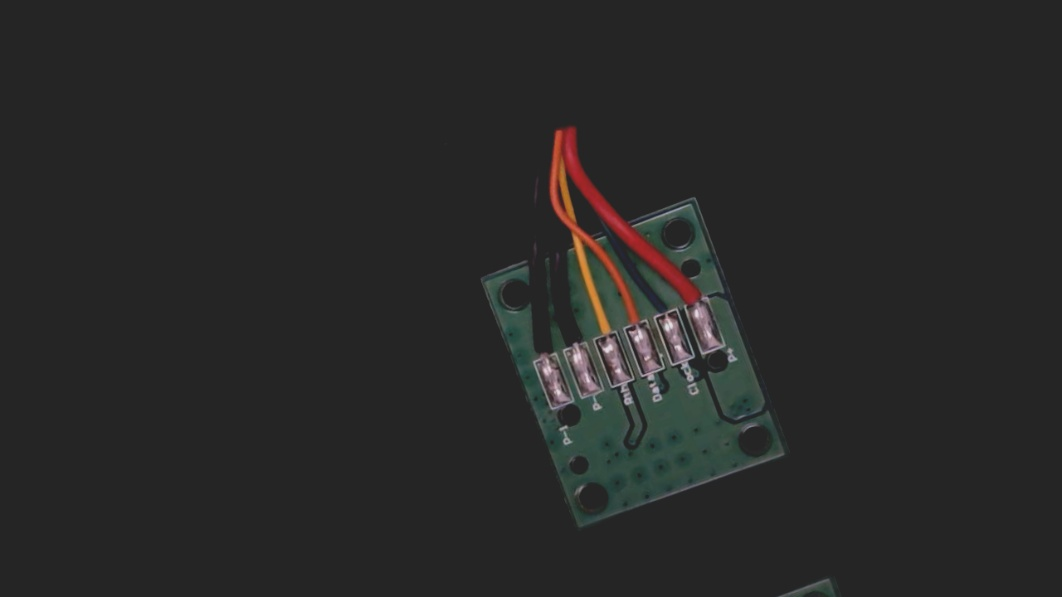Black: (548, 303, 594, 361)
Black1: (516, 312, 561, 374)
Green: (639, 274, 682, 332)
Orange: (607, 276, 652, 342)
Red: (669, 255, 715, 319)
Yellow: (579, 294, 622, 352)
